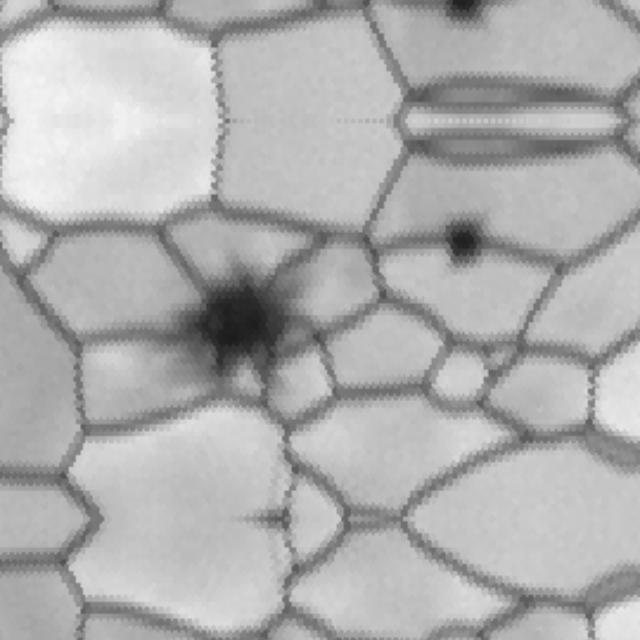good_void: (147, 251, 303, 408), (435, 206, 497, 279), (435, 0, 497, 37)
